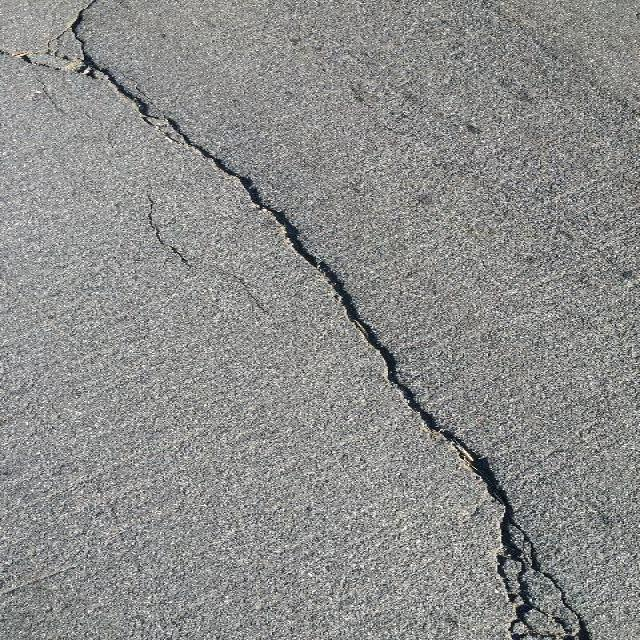GRIETA: (161, 117, 590, 639), (83, 49, 150, 121), (147, 194, 191, 267), (0, 48, 97, 79), (217, 267, 266, 313), (515, 568, 540, 638), (69, 0, 99, 49), (29, 27, 68, 56), (498, 555, 517, 603), (39, 81, 65, 113)
